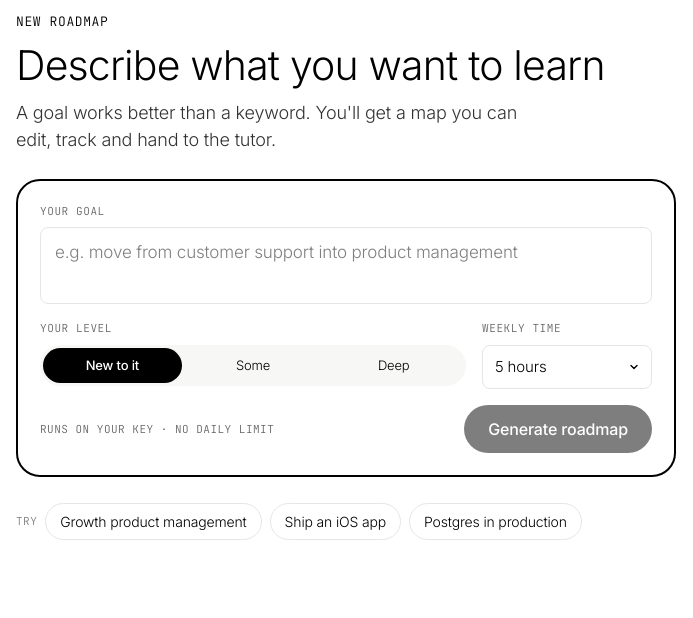
Scenario: CreateRoadmapPane generation flow › shows the mapped message from an SSE error event
The width and height of the screenshot is (693, 618).
In the text box labelled "Your goal": (346, 266) x1=40 y1=227 x2=652 y2=304, type "Learn TypeScript properly"
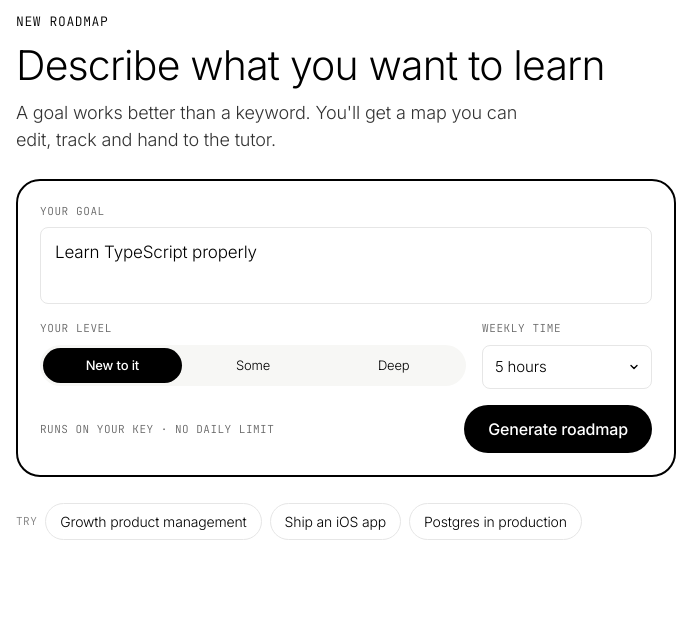
Click the button "Generate roadmap": click(558, 429) x1=464 y1=405 x2=652 y2=453
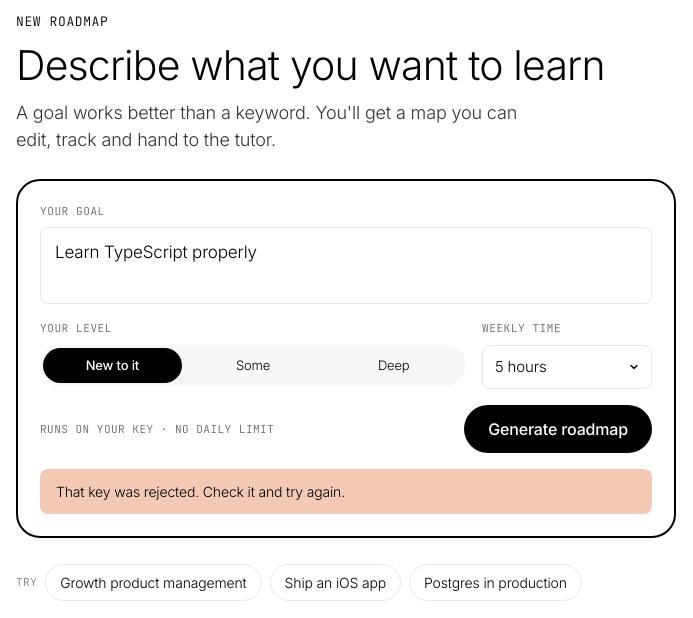
Expected: the text box labelled "Your goal" is shown, x1=40 y1=227 x2=652 y2=304
Expected: the text "That key was rejected. Check it and try again." is shown, x1=40 y1=469 x2=652 y2=514
